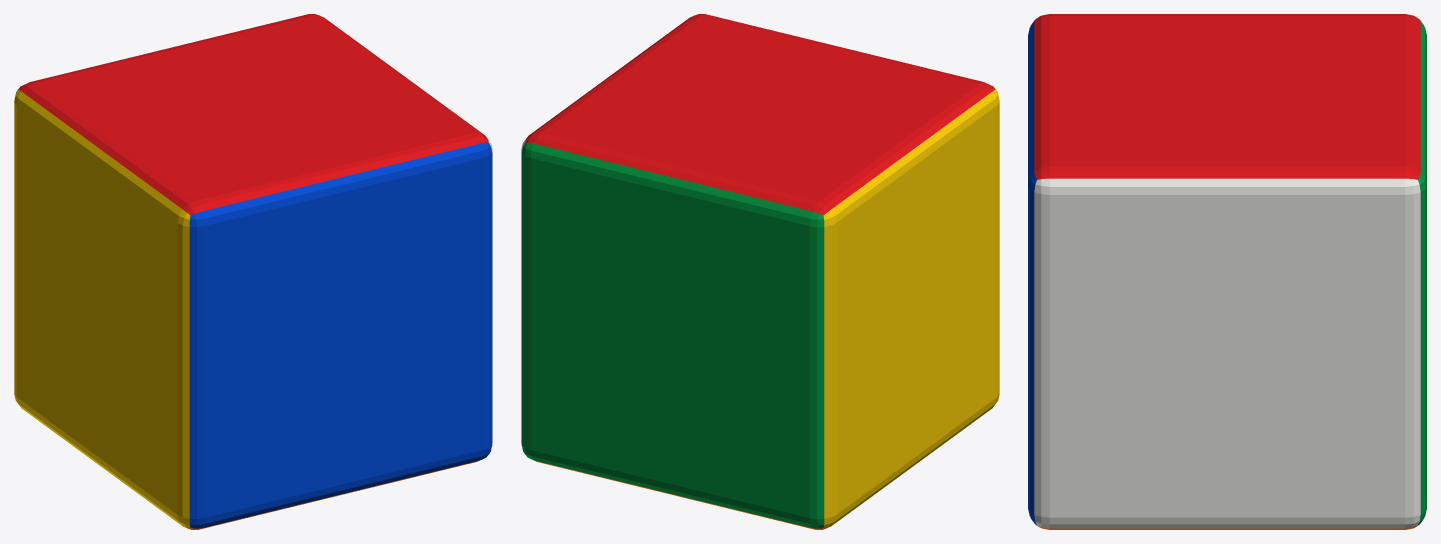
The model's file is dex_cube.glb.
The picture shows the model from 3 angles, left to right: view 1: azimuth 30°, elevation 25°; view 2: azimuth 150°, elevation 25°; view 3: azimuth 270°, elevation 25°; orthographic projection. The views are drawn at different scales.
Visible parts, largest first — view 1: C_classic; view 2: C_classic; view 3: C_classic.
Part boxes in pixels (x1,y1,x2,y2): C_classic: [14, 14, 492, 529]; C_classic: [521, 14, 999, 529]; C_classic: [1028, 14, 1426, 529].
Size of the model in its own units: 0.065 by 0.065 by 0.065.
